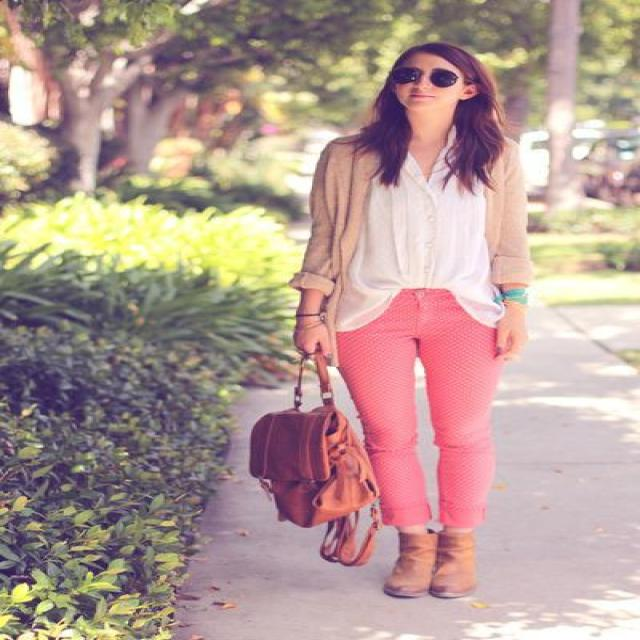bag: (250, 360, 392, 566)
jacket: (288, 128, 541, 293)
pants: (336, 288, 514, 530)
shirt: (336, 149, 506, 331)
shoe: (382, 508, 485, 598)
